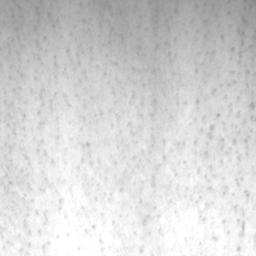Pitted surface: (0, 30, 256, 256), (211, 232, 218, 242)
